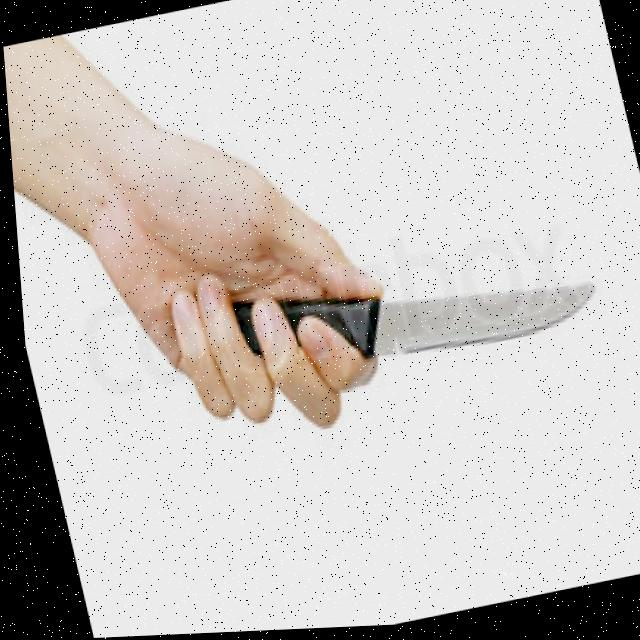knife: (333, 222, 603, 384)
